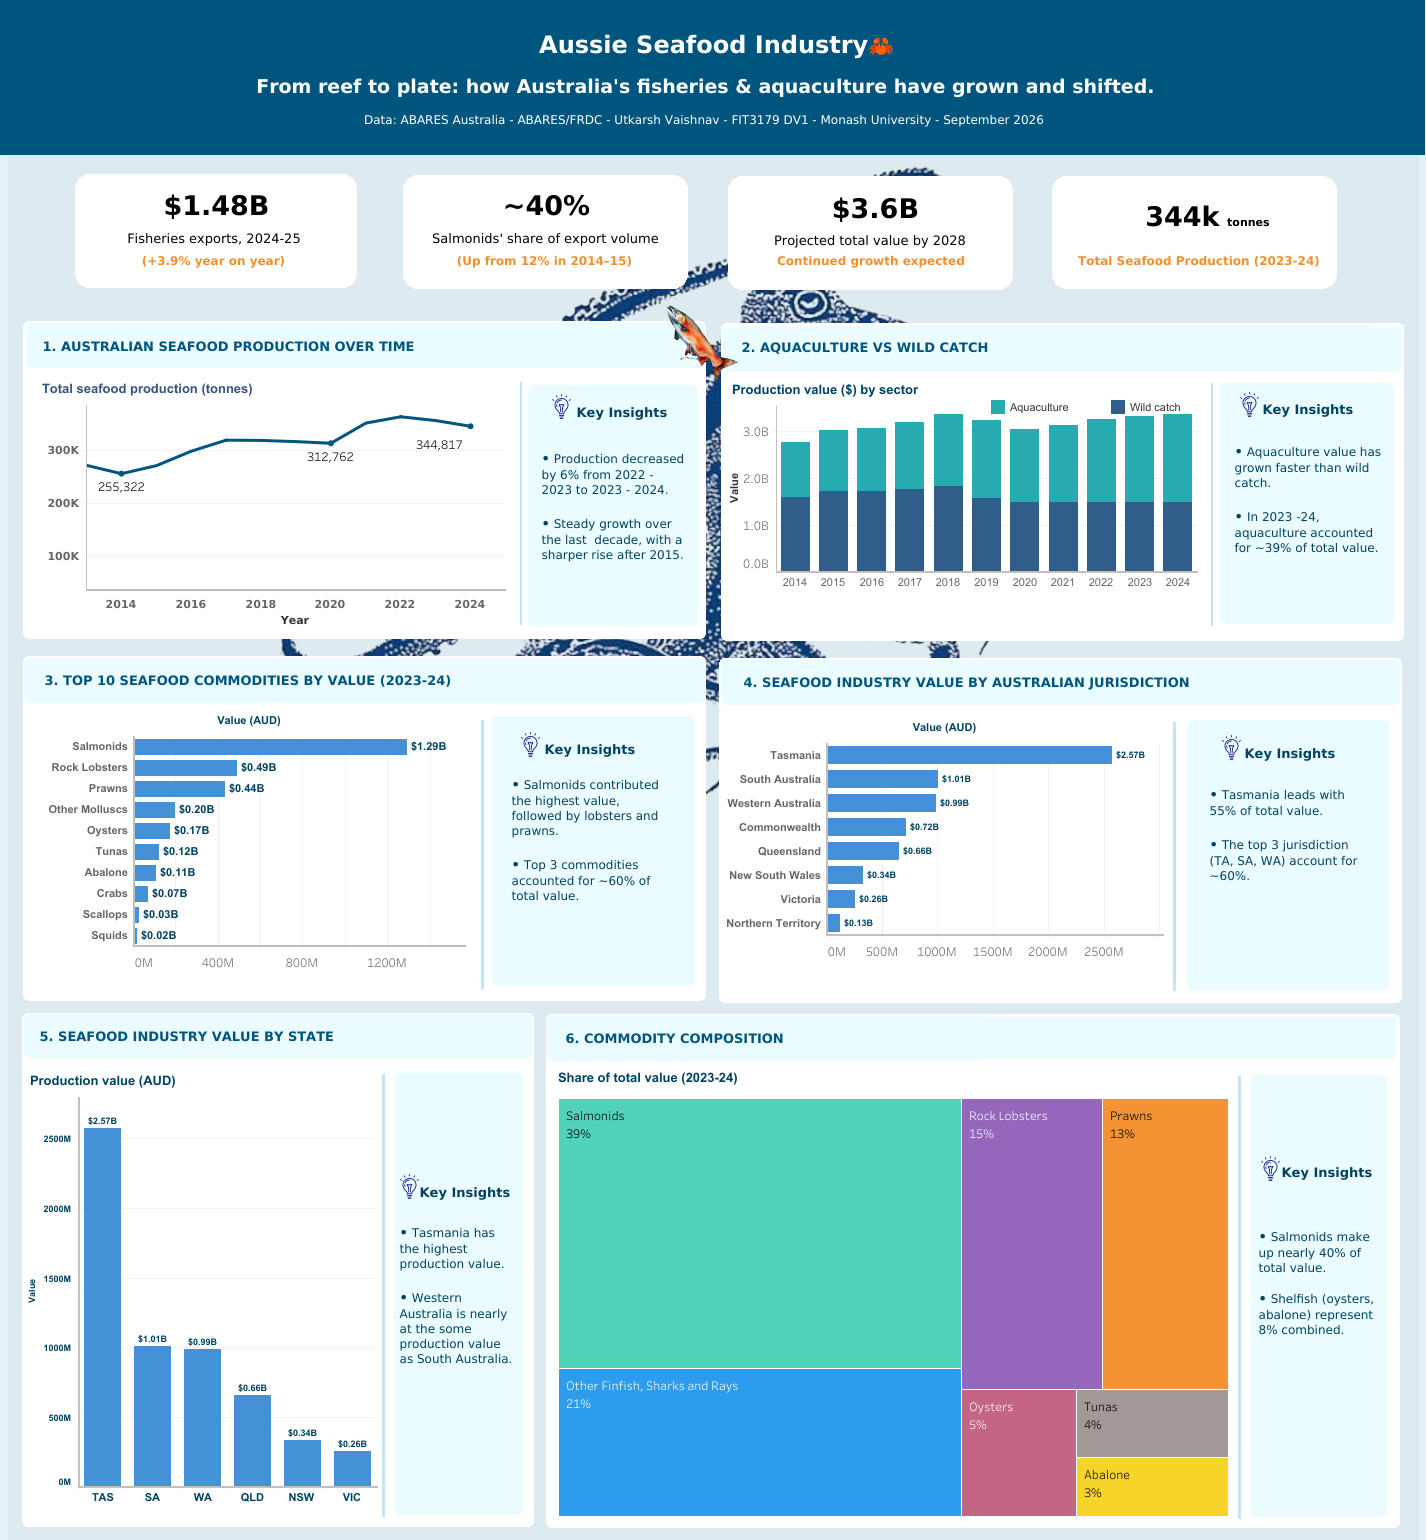

Layout of this report page (visuals, bound fields, positions):
{"tool":"tableau","page":{"name":"Dashboard 1","canvas":[1427,3369],"ordinal":0},"visuals":[{"type":"text","box":[34.7,26,1338.1,186]},{"type":"text","box":[62.5,39,1285.3,94]},{"type":"image","param":"Image/ca36cdabced190f3acdcf8e02199de78-removebg-preview.png","box":[272,159,810,1063]},{"type":"text","box":[1138,183,139,66]},{"type":"text","box":[147,190,139,30]},{"type":"text","box":[477,190,139,30]},{"type":"text","box":[806,193,139,30]},{"type":"text","box":[398,205,295,67]},{"type":"text","box":[713,225,314,30]},{"type":"text","box":[79,229,270,19]},{"type":"text","box":[118,245,191,30]},{"type":"text","box":[386.3,245,316.8,30]},{"type":"text","box":[721.1,245,300.1,30]},{"type":"text","box":[1042,245,314,30]},{"type":"image","param":"Image/pngtree-salmon-fish-water-color-sketch-line-art-png-image_14902495-removeb","box":[654,294,92,88]},{"type":"text","box":[40,325,643,42]},{"type":"text","box":[739,326,634,42]},{"type":"worksheet","title":"Sheet 10","mark":"Line","rows":["Production (metric tons)"],"cols":["Year"],"box":[38,375,471,257]},{"type":"worksheet","title":"Wild-catch vs aquaculture","mark":"Bar","rows":["Value"],"cols":["Financial Year"],"box":[728,376,469,243]},{"type":"text","box":[1232,376,156,246]},{"type":"text","box":[539,383,149,246]},{"type":"image","param":"Image/images-removebg-preview.png","box":[1237,392,25,34]},{"type":"image","param":"Image/images-removebg-preview.png","box":[549,394,25,34]},{"type":"text","box":[1260,394,100,30]},{"type":"text","box":[574,397,100,30]},{"type":"legend","title":"Wild-catch vs aquaculture","param":"[federated.02ami820kcus3v1bk5k730sdf4ne].[none:Sector:nk]","box":[988,397,309,64]},{"type":"text","box":[42,659,643,42]},{"type":"text","box":[741,661,643,42]},{"type":"worksheet","title":"Sheet 11","mark":"Automatic","rows":["Commodity"],"cols":["Value"],"box":[33,708,432,303]},{"type":"text","box":[1207,711,164,246]},{"type":"worksheet","title":"Sheet 12","mark":"Automatic","rows":["F1"],"cols":["Value"],"box":[726,715,437,274]},{"type":"text","box":[509,716,164,246]},{"type":"image","param":"Image/images-removebg-preview.png","box":[518,732,25,34]},{"type":"text","box":[542,734,100,30]},{"type":"image","param":"Image/images-removebg-preview.png","box":[1219,735,25,34]},{"type":"text","box":[1242,738,100,30]},{"type":"text","box":[37,1015,484,42]},{"type":"text","box":[563,1017,833,42]},{"type":"worksheet","title":"Sheet 14","mark":"Automatic","box":[554,1064,680,456]},{"type":"worksheet","title":"Sheet 13","mark":"Bar","rows":["Value"],"cols":["Calculation_1604505215623168"],"box":[26,1067,351,444]},{"type":"text","box":[1256,1154,127,257]},{"type":"image","param":"Image/images-removebg-preview.png","box":[1258,1156,25,34]},{"type":"text","box":[1279,1157,106,30]},{"type":"image","param":"Image/images-removebg-preview.png","box":[397,1174,25,34]},{"type":"text","box":[417,1177,95,30]},{"type":"text","box":[397,1178,123,233]},{"type":"text","box":[23,1542,699,42]},{"type":"text","box":[735,1544,661,42]},{"type":"legend","title":"Sheet 15","param":"[federated.05oxep411x14ya19kbubf0vvo4pn].[none:Commodity:nk]","box":[523,1592,156,239]},{"type":"worksheet","title":"Sheet 16","mark":"Square","rows":["Commodity"],"cols":["Financial Year"],"box":[741,1593,631,399]},{"type":"worksheet","title":"Sheet 15","mark":"Circle","cols":["Value"],"box":[35,1596,475,418]},{"type":"image","param":"Image/images-removebg-preview.png","box":[1323,1671,19,27]},{"type":"text","box":[1290,1688,106,30]},{"type":"text","box":[1275,1700,110,214]},{"type":"image","param":"Image/images-removebg-preview.png","box":[553,1774,25,34]},{"type":"text","box":[527,1775,185,214]},{"type":"text","box":[576,1777,100,30]},{"type":"legend","title":"Sheet 16","param":"[federated.05oxep411x14ya19kbubf0vvo4pn].[sum:Value:qk]","box":[808,1951,444,54]},{"type":"text","box":[21,2064,680,42]},{"type":"text","box":[716,2065,680,42]},{"type":"legend","title":"Sheet 17","param":"[federated.05oxep411x14ya19kbubf0vvo4pn].[none:Commodity:nk]","box":[520,2101,166,188]},{"type":"legend","title":"Sheet 20","param":"[federated.1tkteve1dmtlg019dbazg057g01v].[none:Country Code:nk]","box":[733,2102,79,173]},{"type":"worksheet","title":"Sheet 17","mark":"Line","cols":["Financial Year"],"box":[29,2109,474,431]},{"type":"worksheet","title":"Sheet 20","mark":"Pie","box":[736,2142,475,446]},{"type":"text","box":[1152,2176,223,316]},{"type":"image","param":"Image/images-removebg-preview.png","box":[1181,2207,34,65]},{"type":"text","box":[1209,2214,106,30]},{"type":"image","param":"Image/images-removebg-preview.png","box":[435,2239,25,34]},{"type":"text","box":[530,2307,159,214]},{"type":"text","box":[566,2308,106,30]},{"type":"image","param":"Image/images-removebg-preview.png","box":[550,2309,19,27]},{"type":"text","box":[23,2574,1369,42]},{"type":"worksheet","title":"Projection Value","mark":"Line","rows":["Calculation_0567388670115846","Calculation_0567388668182533"],"cols":["Year"],"box":[24,2649,1344,442]},{"type":"legend","title":"Projection Value","param":"[federated.06z20yh0vod36c13aw7mb0q70pxr].[:Measure Names]","box":[334,2705,703,119]}]}

Visuals, with their boxes on the page's 1427x3369 design canvas (x1, y1, x2, y2). These are canvas units, not pixel positions in the 1426x1540 screenshot, which may show the page scaled, cropped or inside an application window:
text: locate(35, 26, 1373, 212)
text: locate(62, 39, 1348, 133)
image: locate(272, 159, 1082, 1222)
text: locate(1138, 183, 1277, 249)
text: locate(147, 190, 286, 220)
text: locate(477, 190, 616, 220)
text: locate(806, 193, 945, 223)
text: locate(398, 205, 693, 272)
text: locate(713, 225, 1027, 255)
text: locate(79, 229, 349, 248)
text: locate(118, 245, 309, 275)
text: locate(386, 245, 703, 275)
text: locate(721, 245, 1021, 275)
text: locate(1042, 245, 1356, 275)
image: locate(654, 294, 746, 382)
text: locate(40, 325, 683, 367)
text: locate(739, 326, 1373, 368)
"Sheet 10" worksheet (Line marks): locate(38, 375, 509, 632)
"Wild-catch vs aquaculture" worksheet (Bar marks): locate(728, 376, 1197, 619)
text: locate(1232, 376, 1388, 622)
text: locate(539, 383, 688, 629)
image: locate(1237, 392, 1262, 426)
image: locate(549, 394, 574, 428)
text: locate(1260, 394, 1360, 424)
text: locate(574, 397, 674, 427)
"Wild-catch vs aquaculture" legend: locate(988, 397, 1297, 461)
text: locate(42, 659, 685, 701)
text: locate(741, 661, 1384, 703)
"Sheet 11" worksheet: locate(33, 708, 465, 1011)
text: locate(1207, 711, 1371, 957)
"Sheet 12" worksheet: locate(726, 715, 1163, 989)
text: locate(509, 716, 673, 962)
image: locate(518, 732, 543, 766)
text: locate(542, 734, 642, 764)
image: locate(1219, 735, 1244, 769)
text: locate(1242, 738, 1342, 768)
text: locate(37, 1015, 521, 1057)
text: locate(563, 1017, 1396, 1059)
"Sheet 14" worksheet: locate(554, 1064, 1234, 1520)
"Sheet 13" worksheet (Bar marks): locate(26, 1067, 377, 1511)
text: locate(1256, 1154, 1383, 1411)
image: locate(1258, 1156, 1283, 1190)
text: locate(1279, 1157, 1385, 1187)
image: locate(397, 1174, 422, 1208)
text: locate(417, 1177, 512, 1207)
text: locate(397, 1178, 520, 1411)
text: locate(23, 1542, 722, 1584)
text: locate(735, 1544, 1396, 1586)
"Sheet 15" legend: locate(523, 1592, 679, 1831)
"Sheet 16" worksheet (Square marks): locate(741, 1593, 1372, 1992)
"Sheet 15" worksheet (Circle marks): locate(35, 1596, 510, 2014)
image: locate(1323, 1671, 1342, 1698)
text: locate(1290, 1688, 1396, 1718)
text: locate(1275, 1700, 1385, 1914)
image: locate(553, 1774, 578, 1808)
text: locate(527, 1775, 712, 1989)
text: locate(576, 1777, 676, 1807)
"Sheet 16" legend: locate(808, 1951, 1252, 2005)
text: locate(21, 2064, 701, 2106)
text: locate(716, 2065, 1396, 2107)
"Sheet 17" legend: locate(520, 2101, 686, 2289)
"Sheet 20" legend: locate(733, 2102, 812, 2275)
"Sheet 17" worksheet (Line marks): locate(29, 2109, 503, 2540)
"Sheet 20" worksheet (Pie marks): locate(736, 2142, 1211, 2588)
text: locate(1152, 2176, 1375, 2492)
image: locate(1181, 2207, 1215, 2272)
text: locate(1209, 2214, 1315, 2244)
image: locate(435, 2239, 460, 2273)
text: locate(530, 2307, 689, 2521)
text: locate(566, 2308, 672, 2338)
image: locate(550, 2309, 569, 2336)
text: locate(23, 2574, 1392, 2616)
"Projection Value" worksheet (Line marks): locate(24, 2649, 1368, 3091)
"Projection Value" legend: locate(334, 2705, 1037, 2824)
